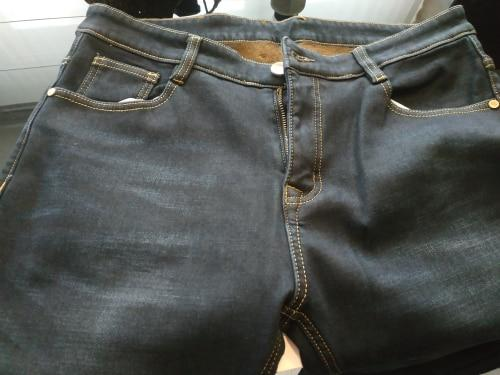jeans: (36, 10, 499, 375)
